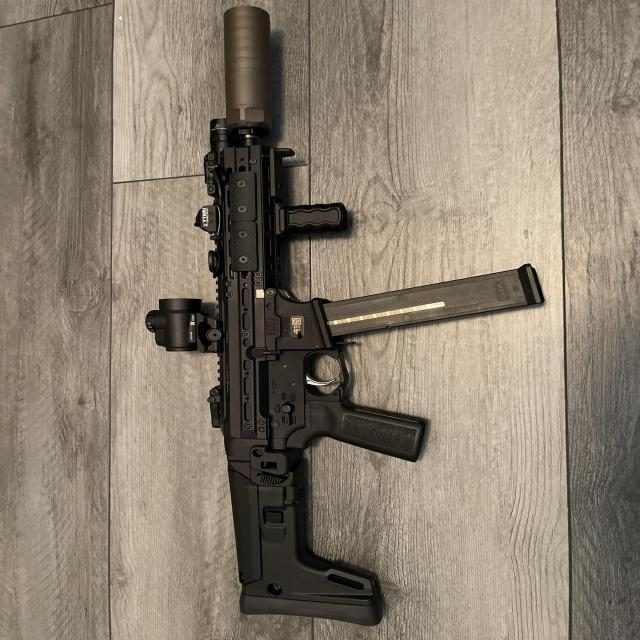rifle: (215, 3, 545, 624)
scope: (142, 292, 214, 370)
